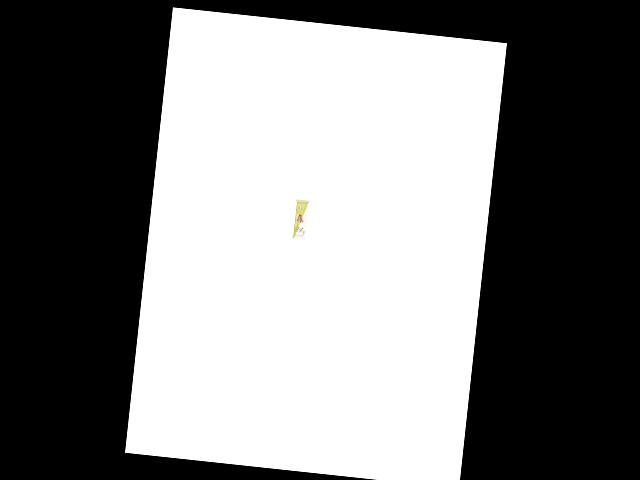chocolate: (288, 196, 312, 242)
